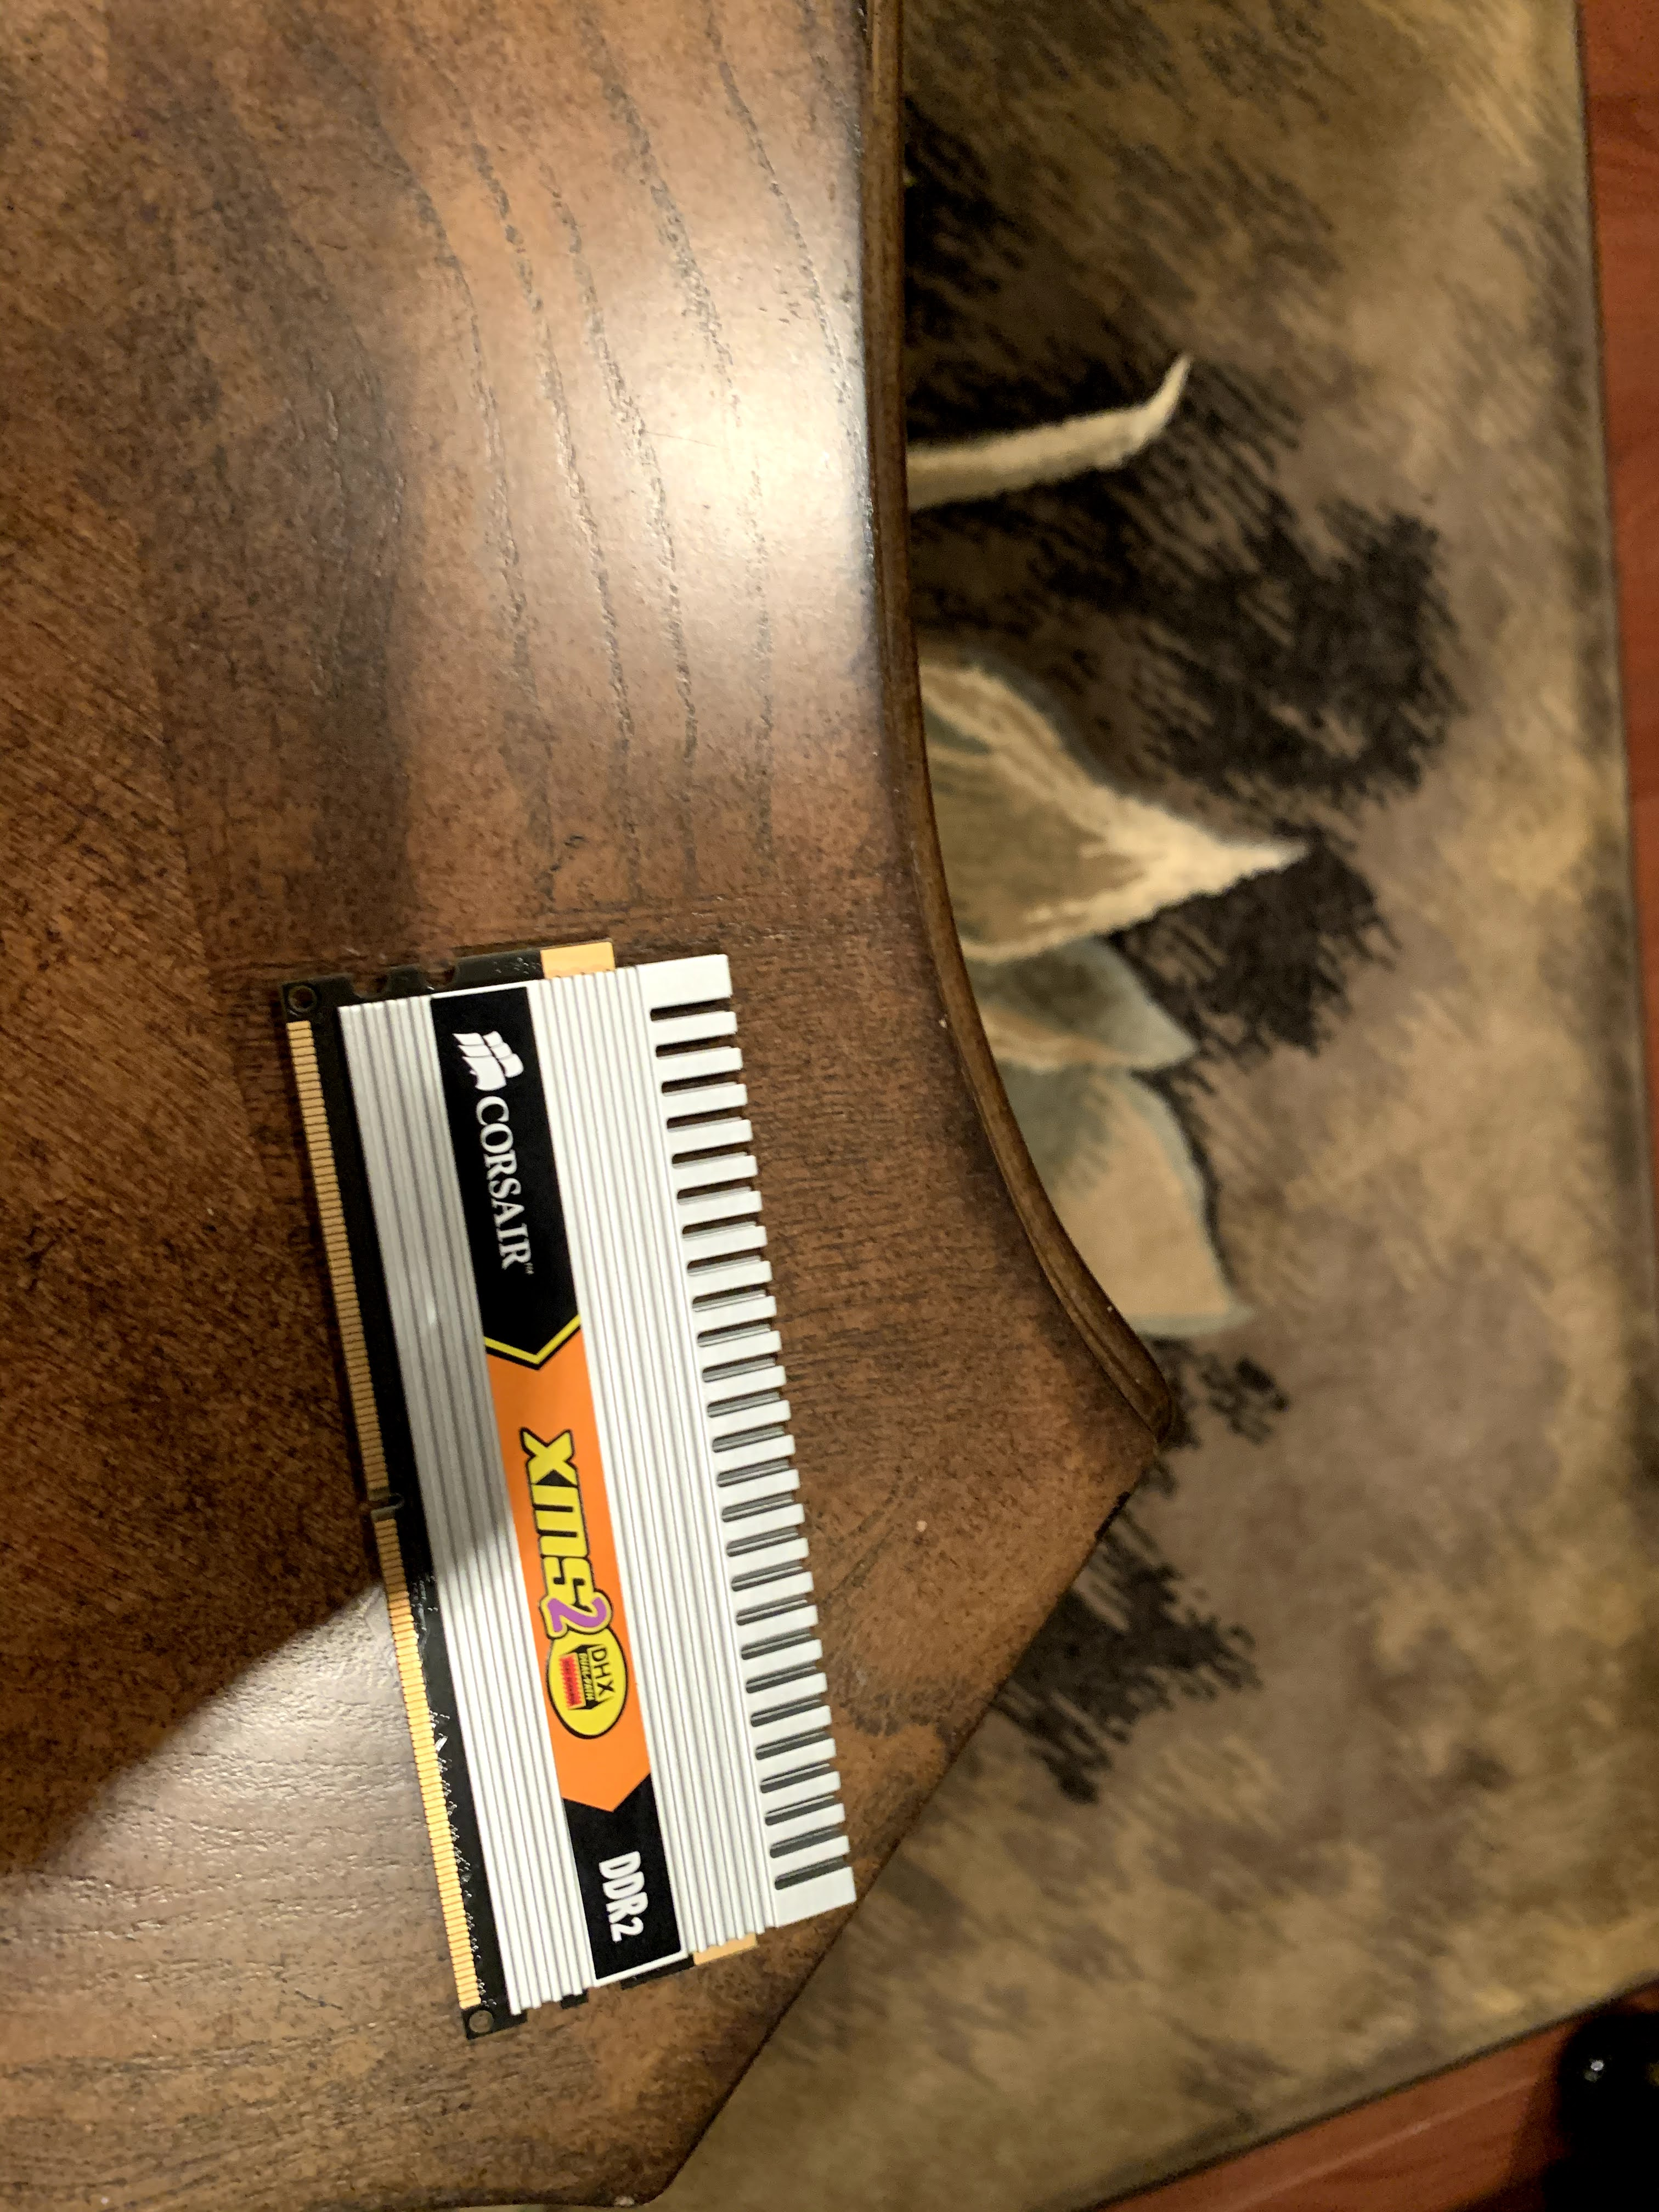Space-debris-medium: (211, 925, 892, 2050)
